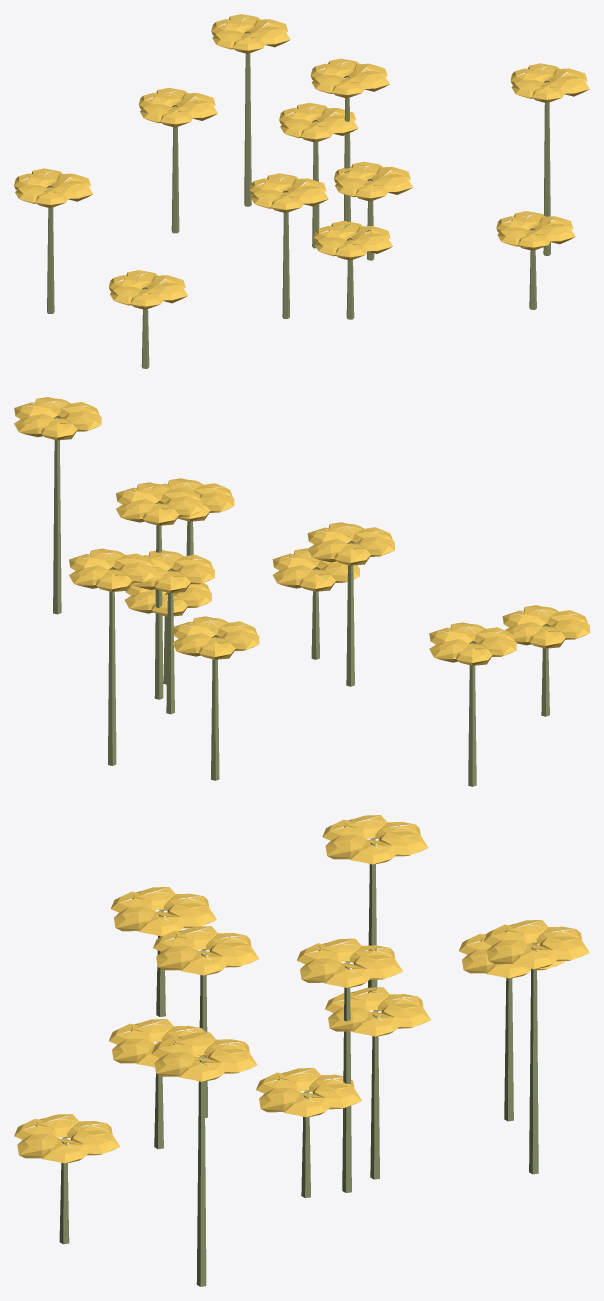
The model's file is desert-canyons-and-oases-desert-marigold-62bd650f__21018.glb.
The picture shows the model from 3 angles, top to bottom: view 1: azimuth 30°, elevation 25°; view 2: azimuth 150°, elevation 25°; view 3: azimuth 270°, elevation 25°; orthographic projection. The views are drawn at different scales.
Parts seen in each view (by area): view 1: desert-marigold; view 2: desert-marigold; view 3: desert-marigold.
Boxes of the visible parts, x1,y1,x2,y2 form: desert-marigold: (14,14,589,368); desert-marigold: (14,397,589,786); desert-marigold: (14,815,589,1286).
Size of the model in its own units: 1.02 by 0.3422 by 0.7561.
